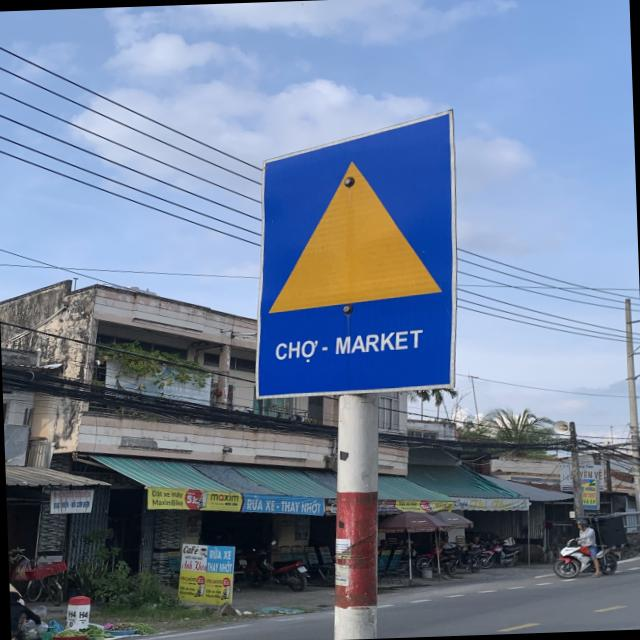Cho_Quay_Xe: (248, 112, 460, 398)
